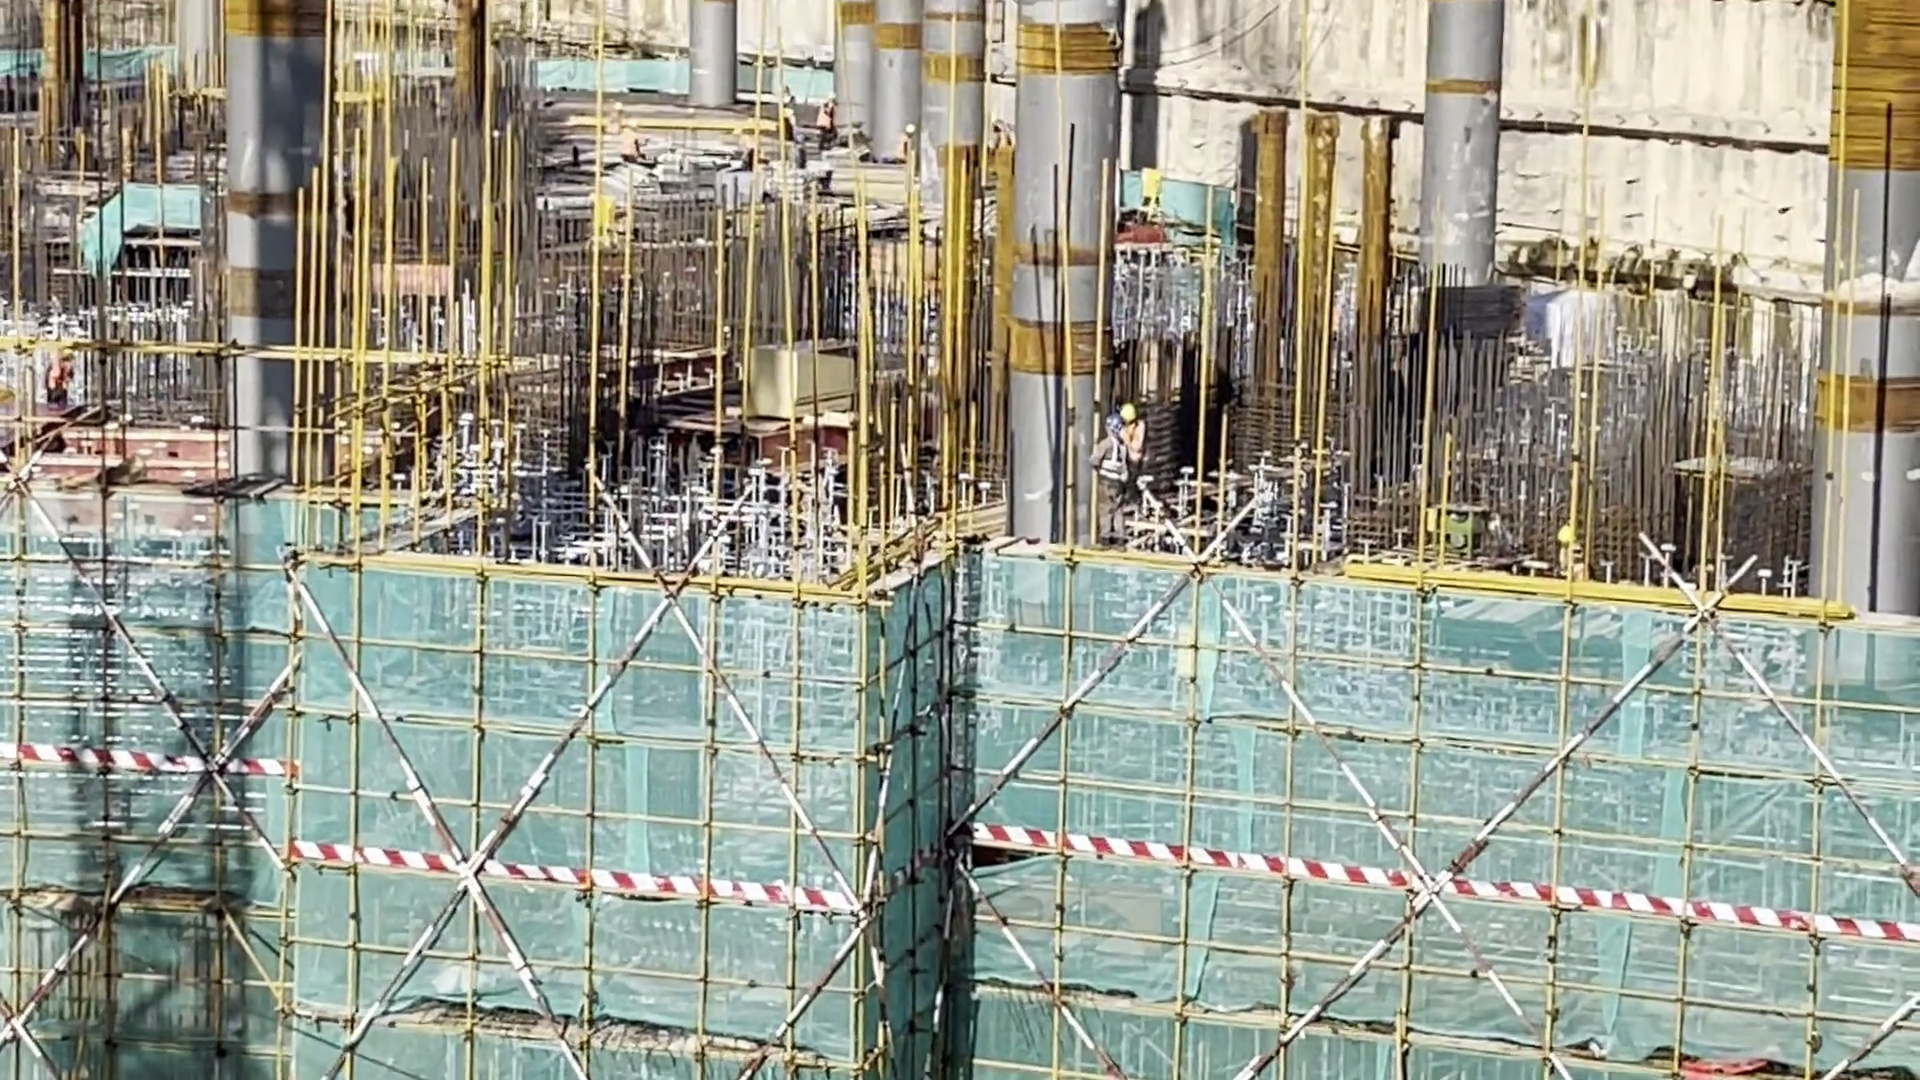helmet: (1559, 524, 1575, 547), (1121, 403, 1136, 420)
person: (1093, 415, 1123, 535), (1120, 403, 1148, 489)
vest: (1096, 441, 1119, 485), (1124, 418, 1146, 464)
